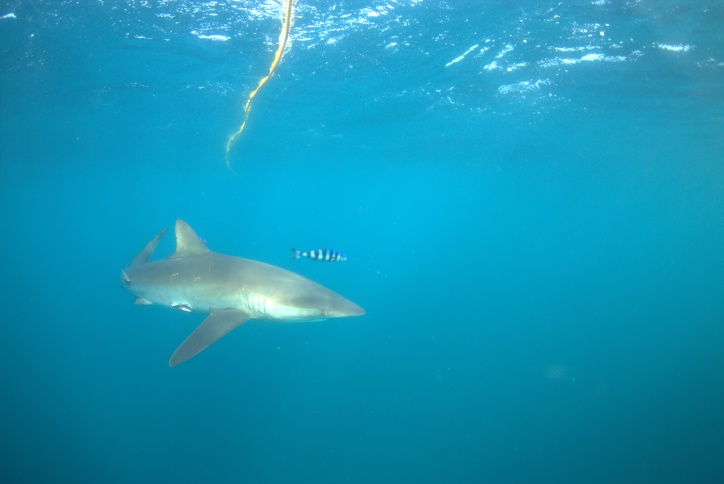Sedoso: (92, 199, 382, 375)
